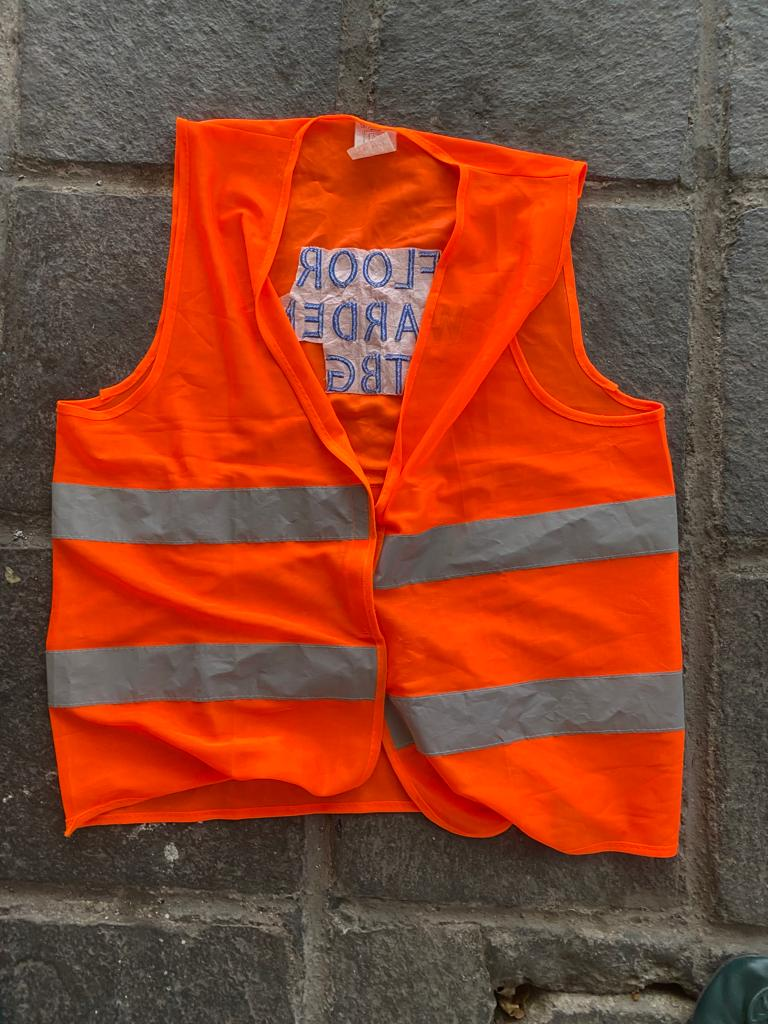ROMPI: (106, 147, 614, 815)
